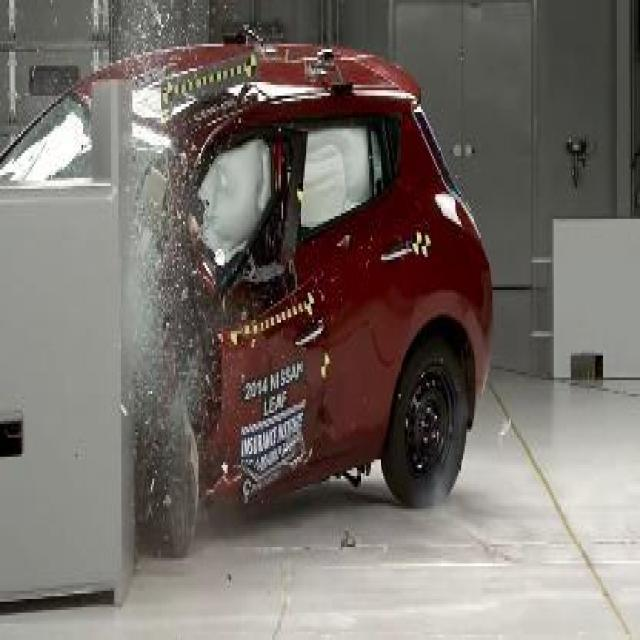accident: (0, 14, 503, 602)
